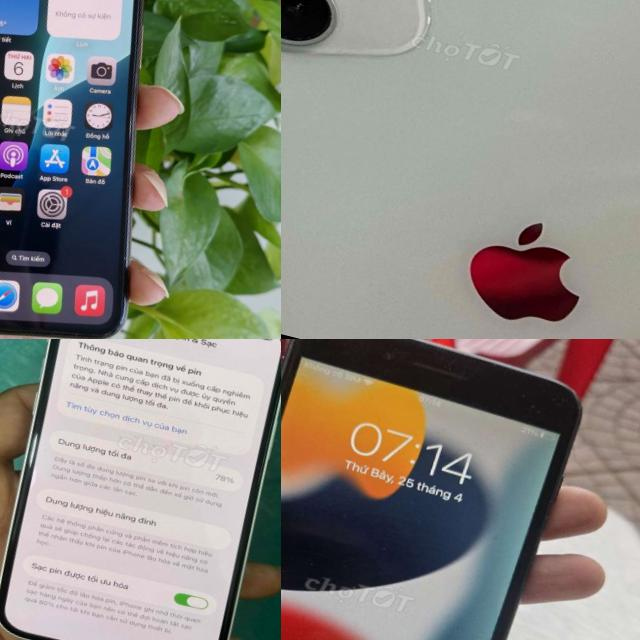gen_11: (281, 0, 640, 339)
gen_12_13: (0, 339, 281, 640)
gen_7_8: (281, 339, 596, 640)
gen_x_xs: (0, 0, 215, 339)
